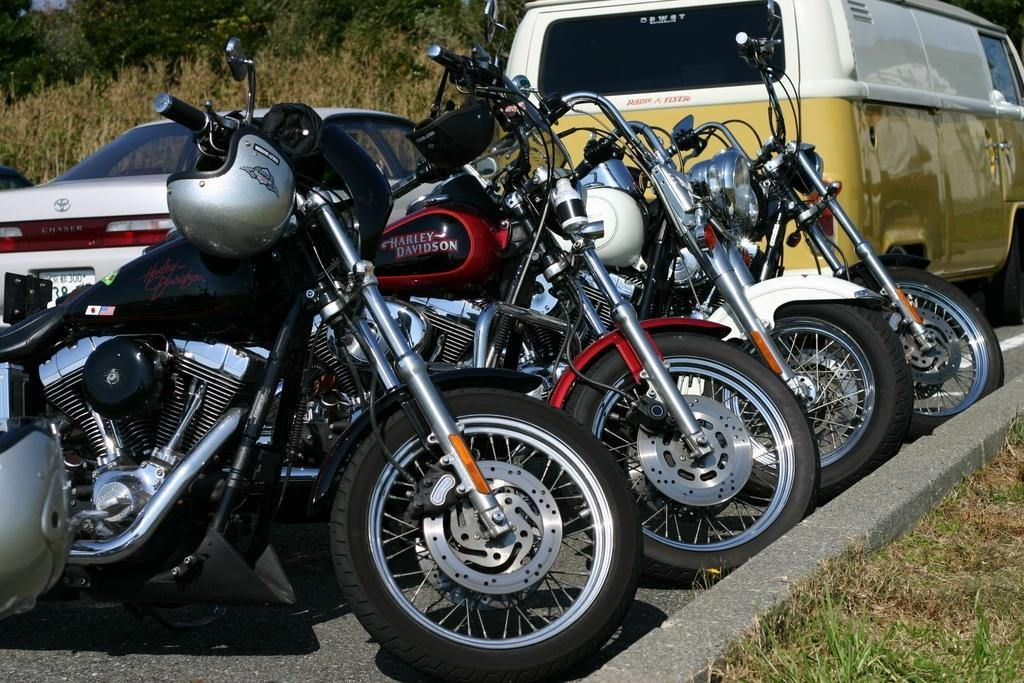helmet: (166, 122, 298, 262), (404, 63, 497, 169)
